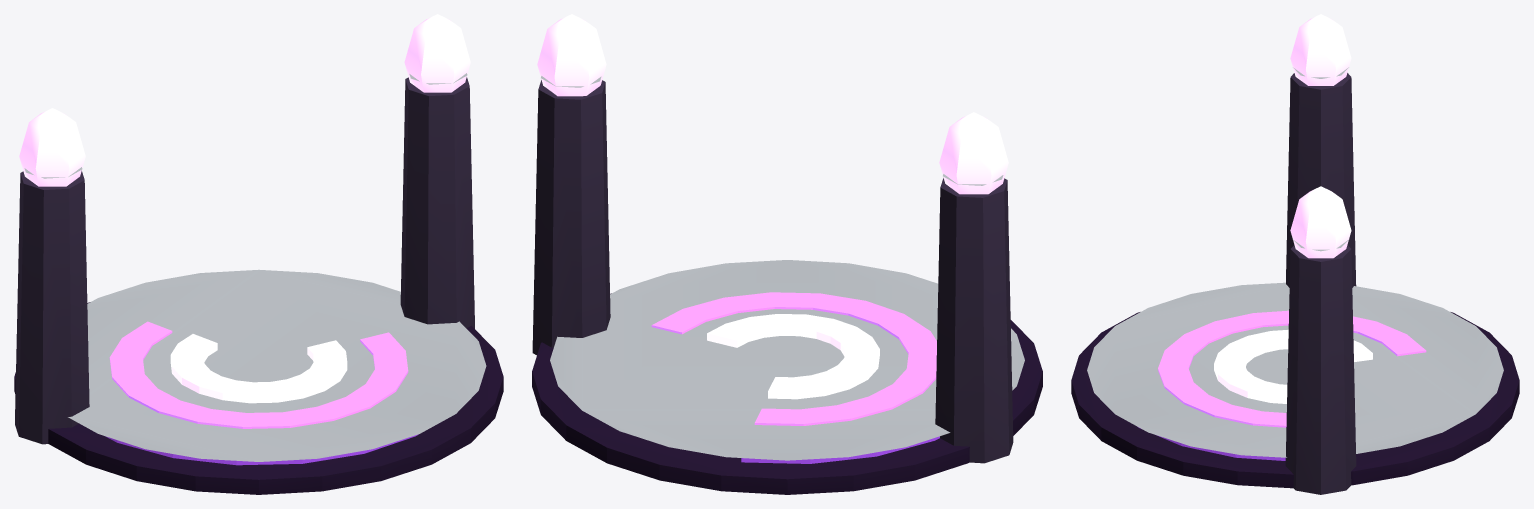
Rendered from portail.glb.
3 views of the same model, side by side, from view 1: azimuth 30°, elevation 25°; view 2: azimuth 150°, elevation 25°; view 3: azimuth 270°, elevation 25° (orthographic). The views are drawn at different scales.
Visible parts, largest first — view 1: portail_peint, Arc2, portail_lueur, Arc3, Arc1; view 2: portail_peint, Arc2, portail_lueur, Arc3, Arc1; view 3: portail_peint, portail_lueur, Arc2, Arc3.
Boxes of the visible parts, x1,y1,x2,y2 form: portail_peint: (14,73,503,494); Arc2: (109,321,408,428); portail_lueur: (19,14,470,186); Arc3: (170,334,347,403); Arc1: (105,434,418,465); portail_peint: (532,76,1042,494); Arc2: (651,292,936,425); portail_lueur: (537,14,1008,194); Arc3: (707,314,879,399); Arc1: (741,436,939,463); portail_peint: (1071,67,1519,494); portail_lueur: (1290,14,1351,258); Arc2: (1158,310,1426,427); Arc3: (1214,329,1372,403).
Size of the model in its own units: 0.9404 by 0.6362 by 0.8799.
